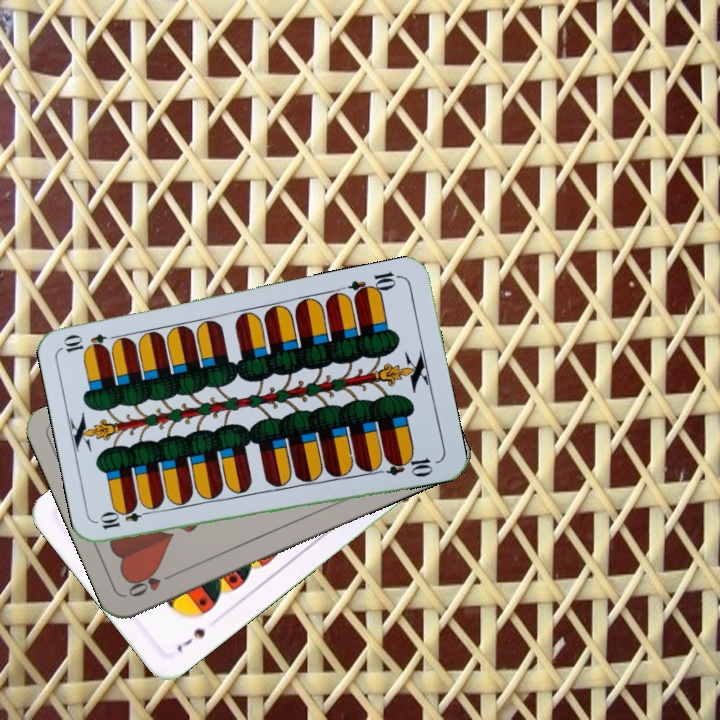E10: (345, 267, 404, 301), (96, 504, 155, 532)
HO: (124, 568, 179, 600)
S7: (172, 624, 208, 655)
